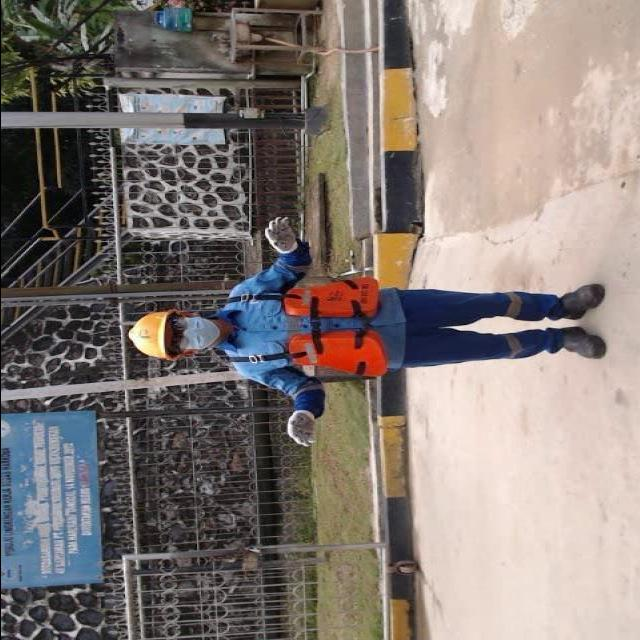helmet: (122, 308, 178, 358)
